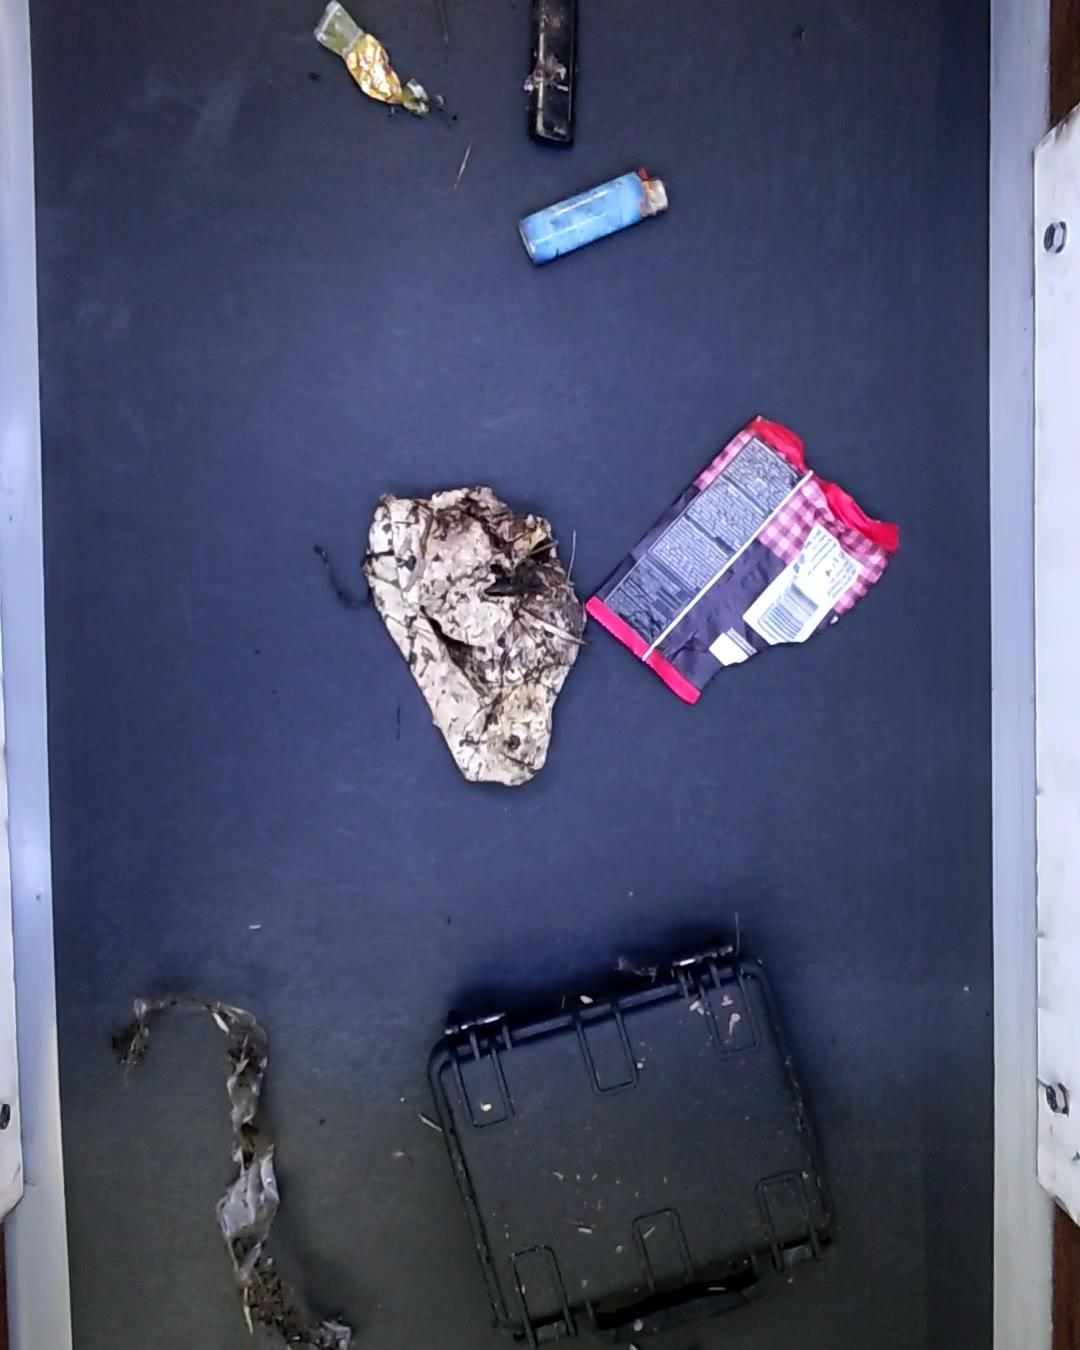Plastic folies of stukken daarvan 2.5- 50 cm: (106, 983, 354, 1350)
Snoep snack en chips verpakkingen: (582, 412, 901, 710), (313, 2, 444, 122)
